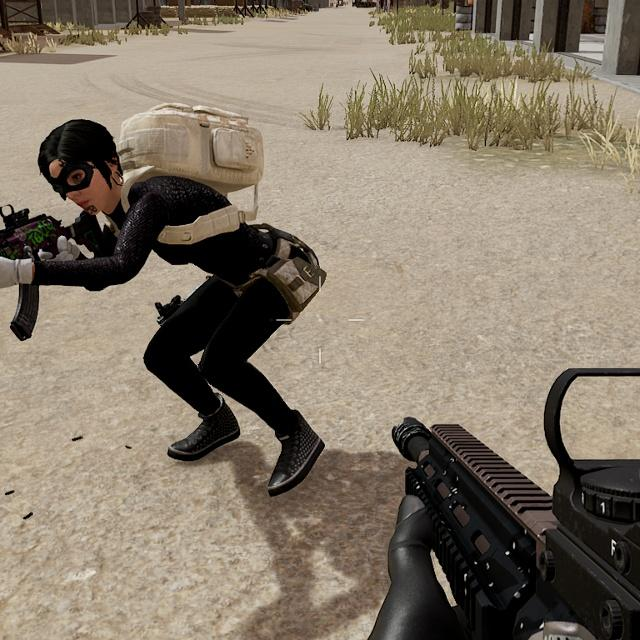head: (31, 114, 153, 223)
people: (1, 93, 332, 502)
